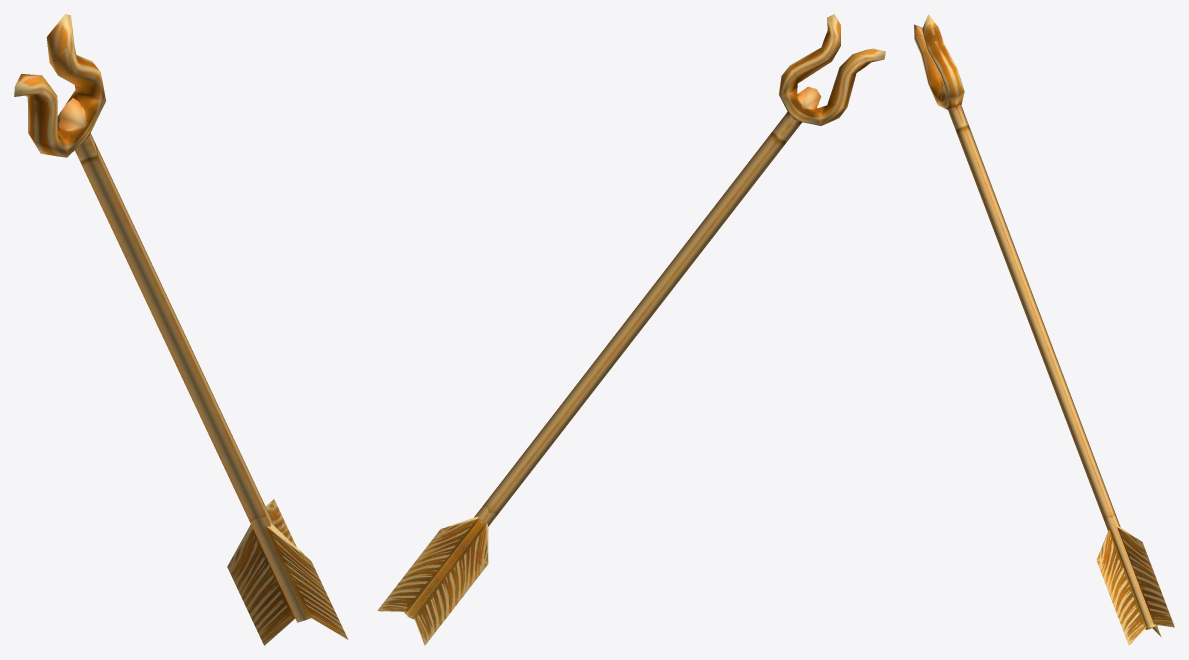
The model's file is sword-base.glb.
The picture shows the model from 3 angles, left to right: view 1: azimuth 30°, elevation 25°; view 2: azimuth 150°, elevation 25°; view 3: azimuth 270°, elevation 25°; orthographic projection. The views are drawn at different scales.
Size of the model in its own units: 1.66 by 2.66 by 1.23.
Materials: 1 (1 with a texture image).
